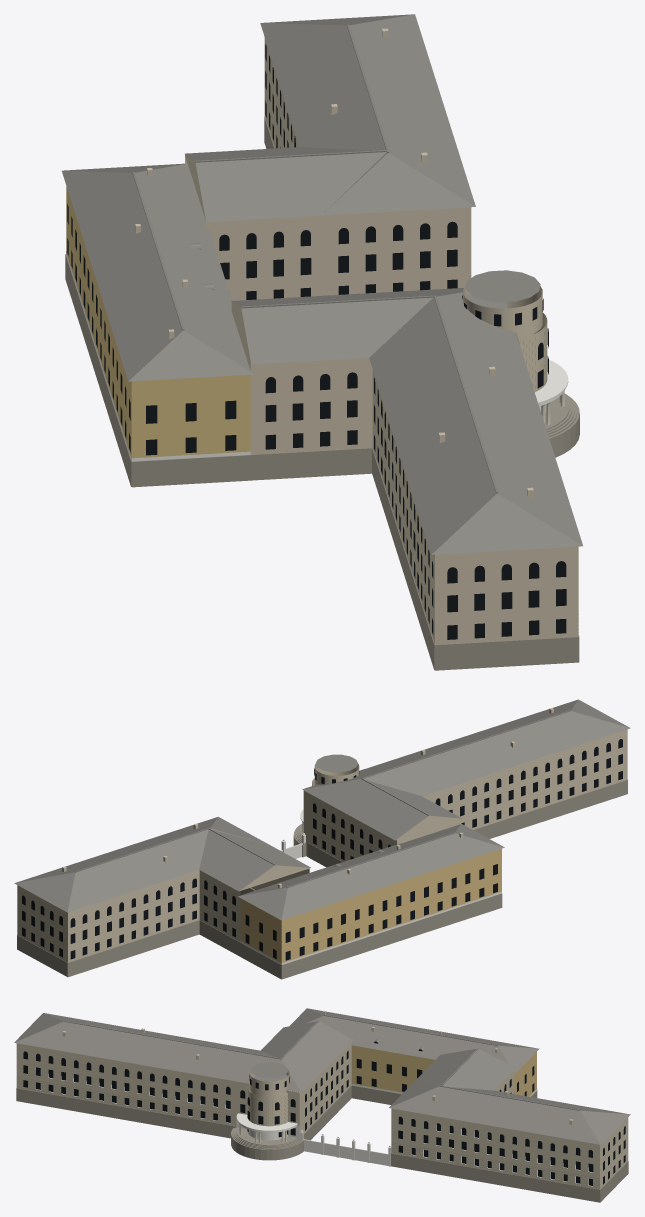
Rendered from sevgu_gogolya14.lod.glb.
3 renders of one model, top to bottom at view 1: azimuth 30°, elevation 25°; view 2: azimuth 150°, elevation 25°; view 3: azimuth 270°, elevation 25°, orthographic. The views are drawn at different scales.
Visible parts, largest first — view 1: sevgu_gogolya14_roof, sevgu_gogolya14_wall, sevgu_gogolya14_stone, sevgu_gogolya14_glass, sevgu_gogolya14_wall2, sevgu_gogolya14_wall3; view 2: sevgu_gogolya14_roof, sevgu_gogolya14_wall, sevgu_gogolya14_stone, sevgu_gogolya14_wall2, sevgu_gogolya14_glass, sevgu_gogolya14_wall3; view 3: sevgu_gogolya14_roof, sevgu_gogolya14_wall, sevgu_gogolya14_stone, sevgu_gogolya14_glass, sevgu_gogolya14_wall2, sevgu_gogolya14_wall3.
Part boxes in pixels (x1,y1,x2,y2): sevgu_gogolya14_roof: (62, 14, 582, 554); sevgu_gogolya14_wall: (135, 28, 578, 644); sevgu_gogolya14_stone: (65, 116, 579, 670); sevgu_gogolya14_glass: (67, 44, 566, 639); sevgu_gogolya14_wall2: (66, 186, 250, 461); sevgu_gogolya14_wall3: (66, 251, 568, 461); sevgu_gogolya14_roof: (14, 699, 630, 920); sevgu_gogolya14_wall: (17, 708, 627, 962); sevgu_gogolya14_stone: (17, 779, 627, 979); sevgu_gogolya14_wall2: (240, 848, 501, 964); sevgu_gogolya14_glass: (22, 739, 622, 960); sevgu_gogolya14_wall3: (240, 809, 501, 964); sevgu_gogolya14_roof: (14, 1008, 630, 1144); sevgu_gogolya14_wall: (16, 1010, 628, 1189); sevgu_gogolya14_stone: (16, 1063, 628, 1202); sevgu_gogolya14_glass: (23, 1041, 625, 1185); sevgu_gogolya14_wall2: (351, 1045, 536, 1096); sevgu_gogolya14_wall3: (236, 1084, 537, 1166).
Size of the model in its own units: 90.6 by 22 by 167.
